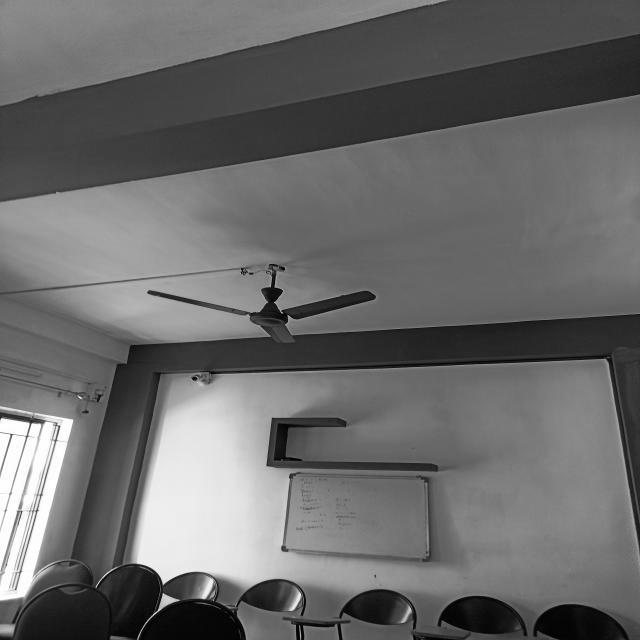fan: (146, 263, 376, 344)
